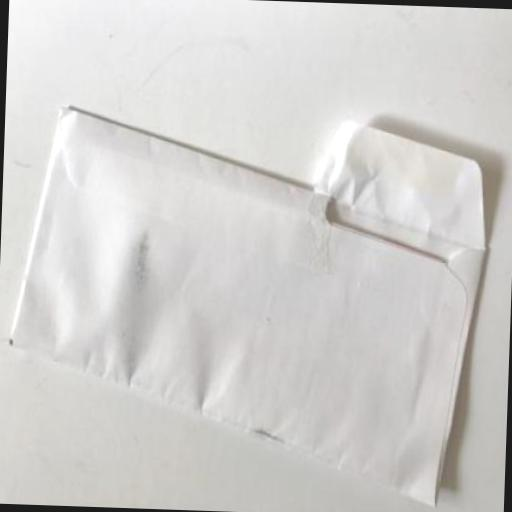paper: (3, 102, 490, 507)
